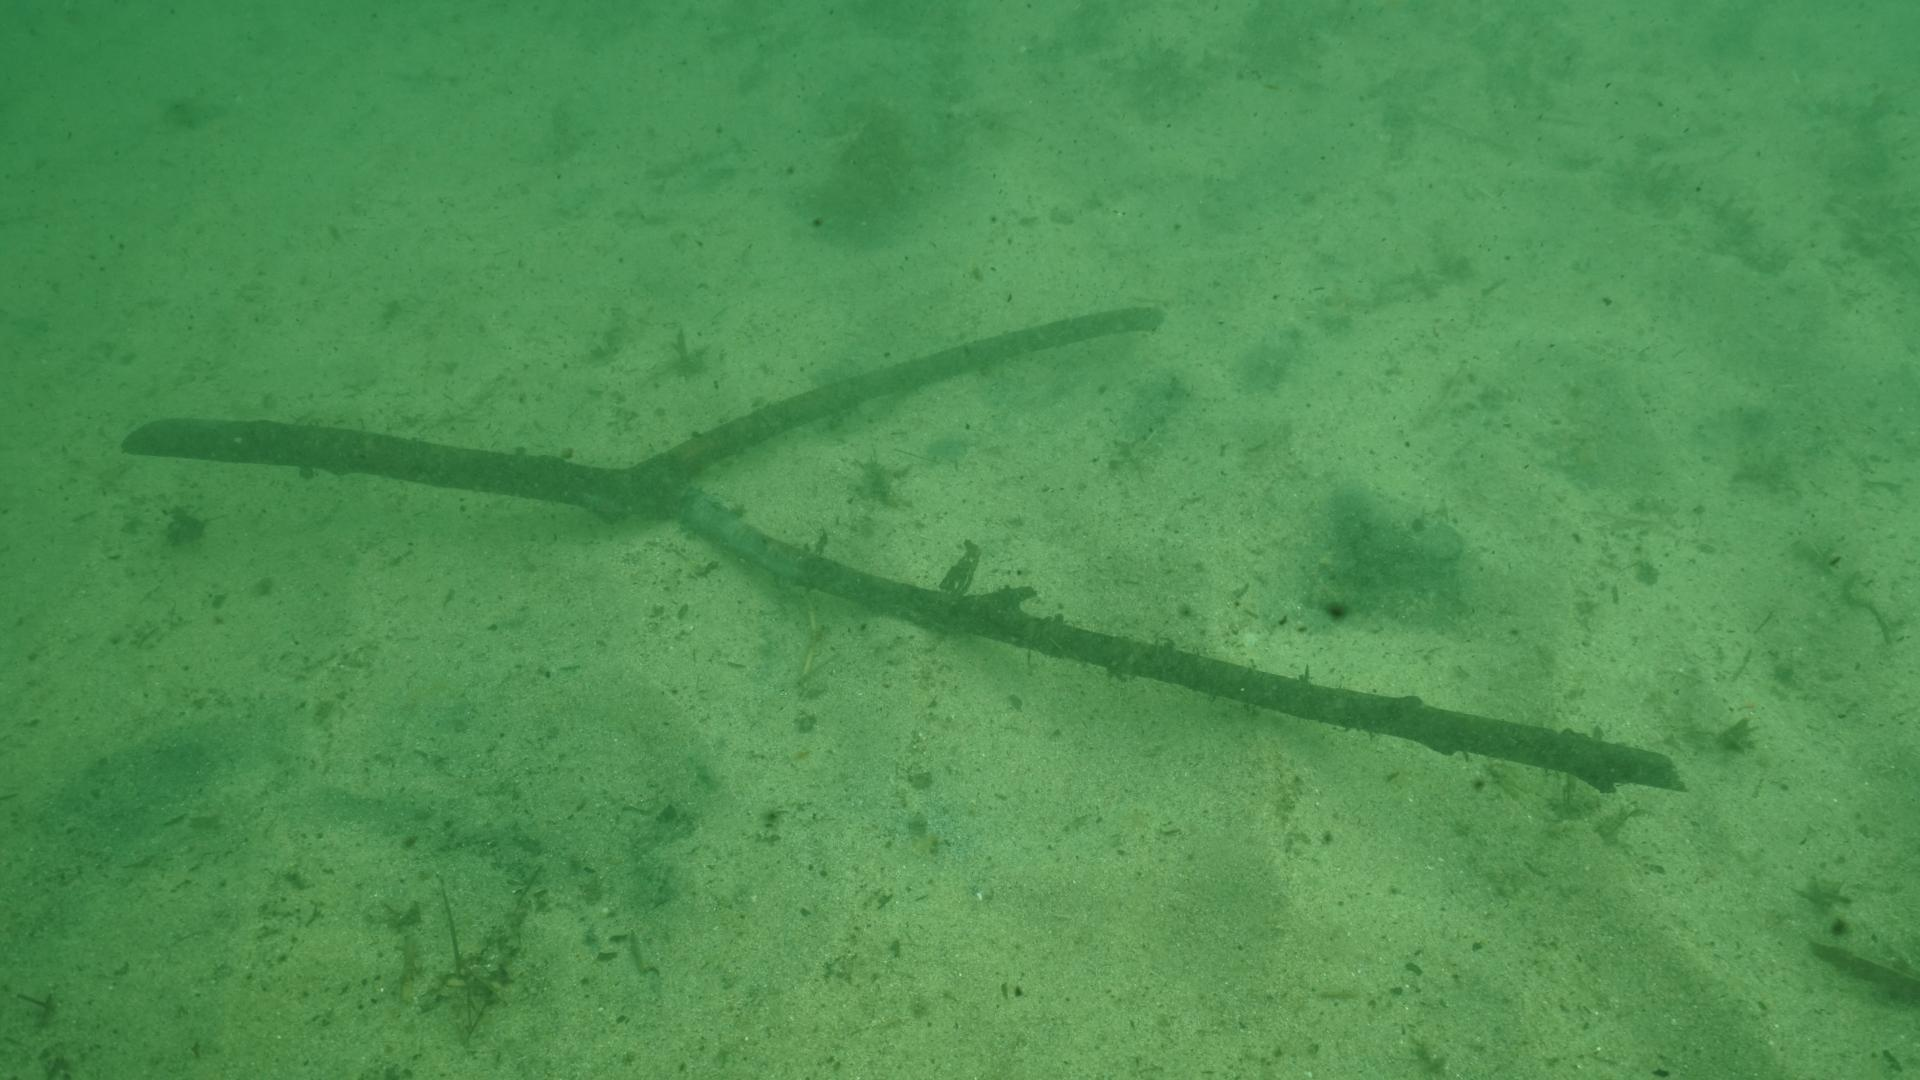wood: (119, 301, 1692, 790)
